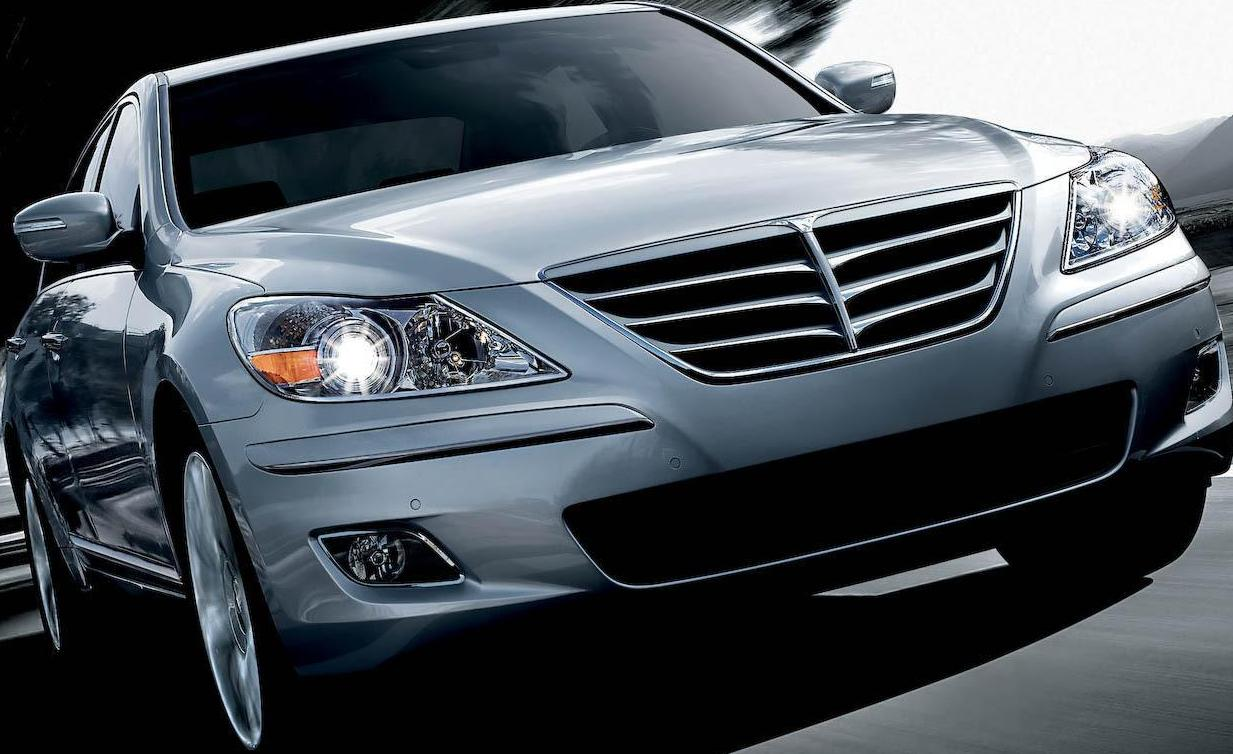front_view: (231, 188, 1233, 654)
headlight: (218, 285, 577, 413)
